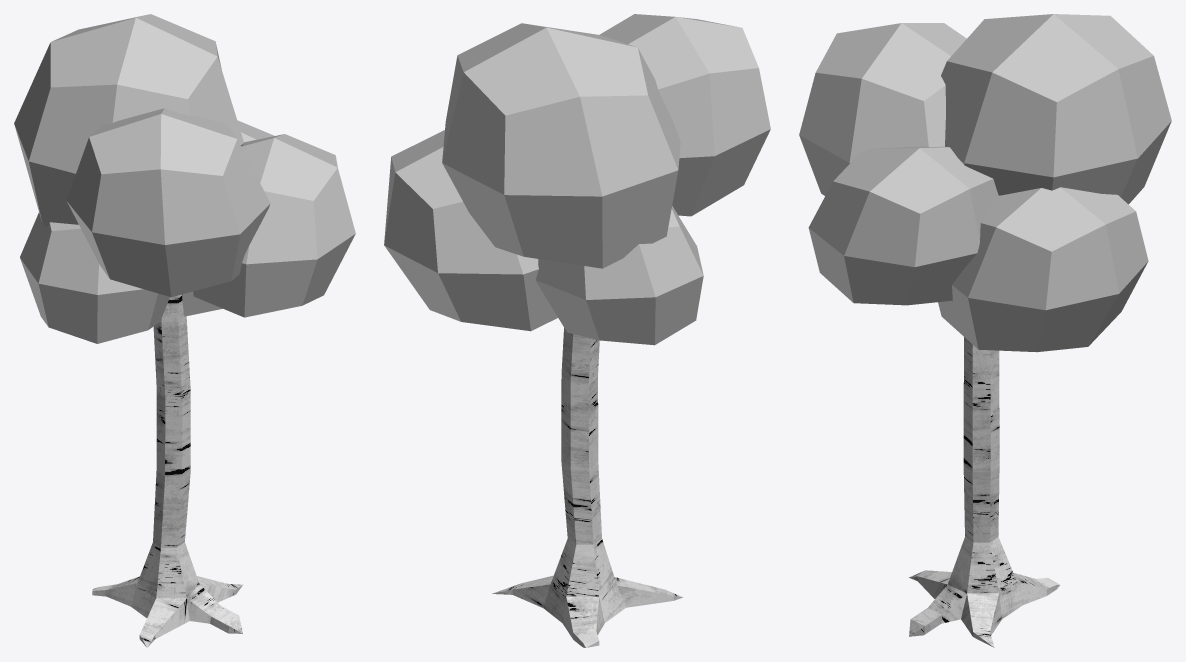
File: Birch.fbx
3 views of the same model, side by side, from view 1: azimuth 30°, elevation 25°; view 2: azimuth 150°, elevation 25°; view 3: azimuth 270°, elevation 25° (orthographic). The views are drawn at different scales.
Visible parts, largest first — view 1: Cylinder; view 2: Cylinder; view 3: Cylinder.
Boxes of the visible parts, box(x1,y1,x2,y2) form: Cylinder: box(14, 14, 355, 647); Cylinder: box(384, 14, 770, 647); Cylinder: box(799, 14, 1171, 647).
Size of the model in its own units: 815 by 1611 by 902.
